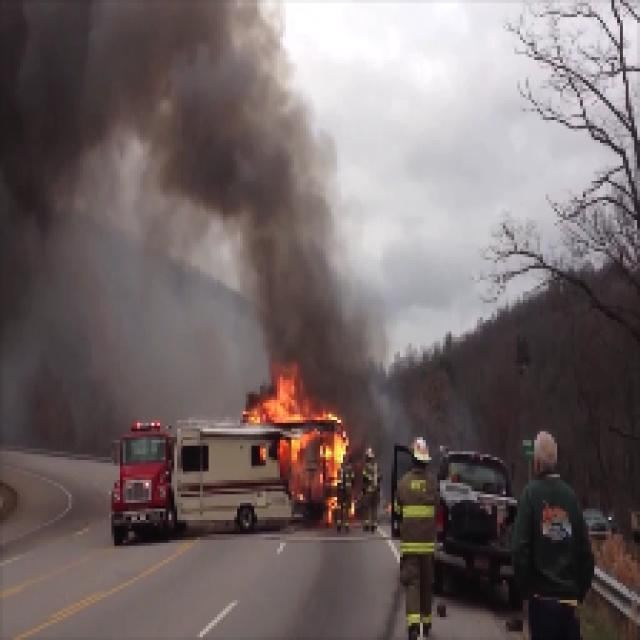Fire: (240, 353, 358, 524)
Smoke: (35, 1, 231, 158), (244, 222, 322, 350)
